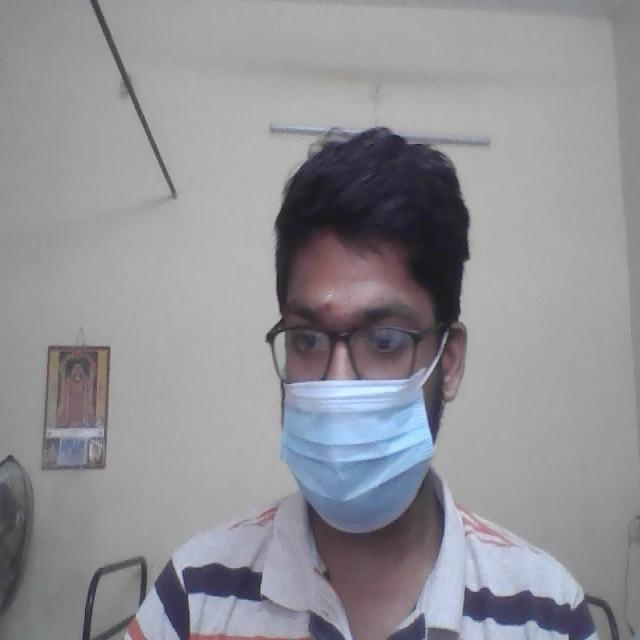Focused: (265, 242, 449, 518)
